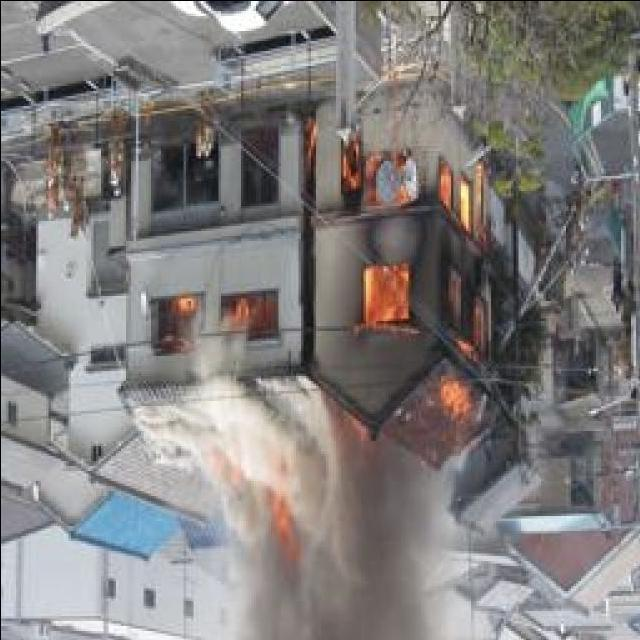Fire: (332, 137, 494, 423), (162, 293, 270, 326)
